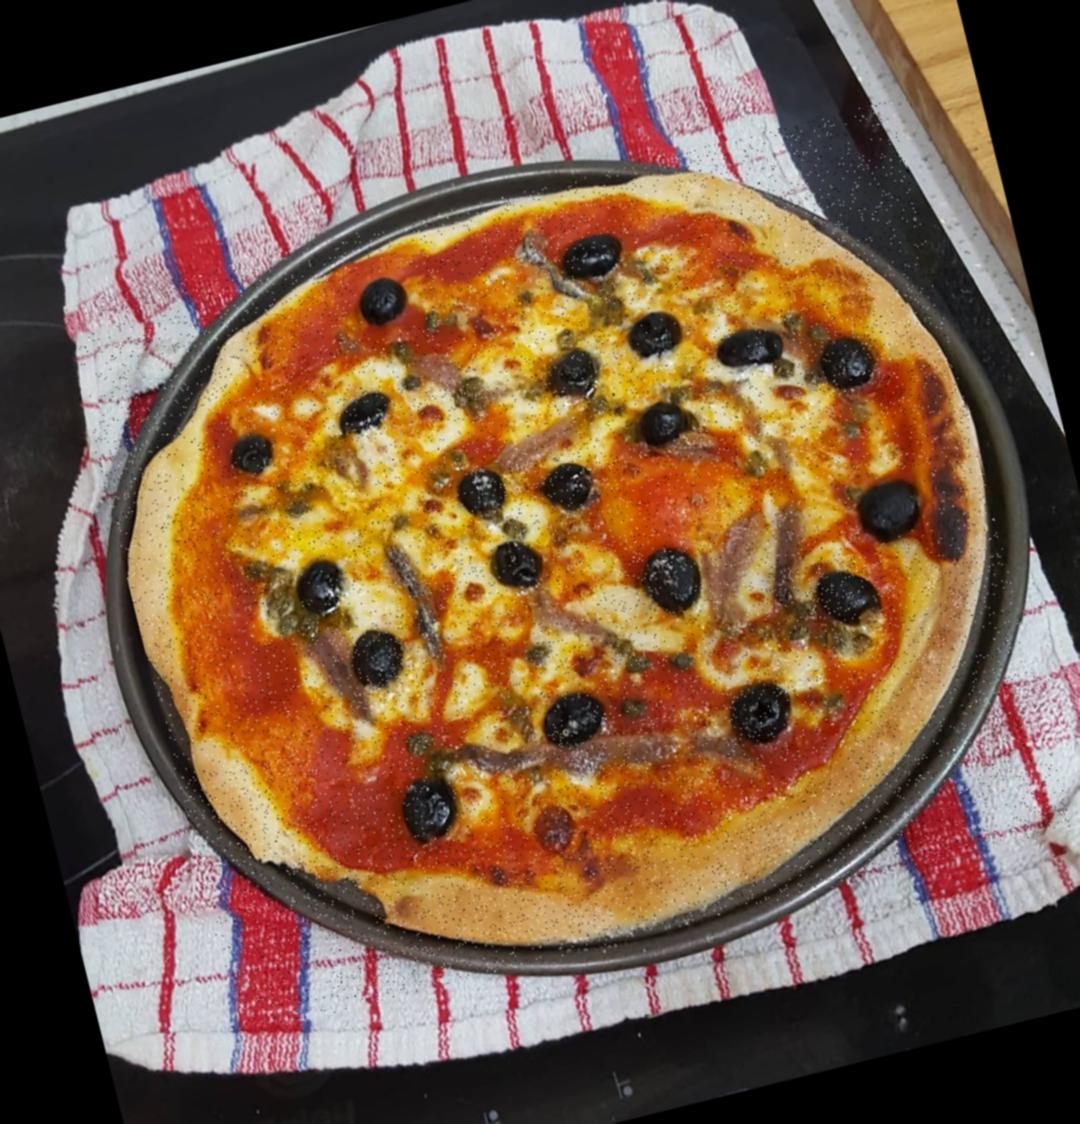Olives: (806, 547, 903, 641), (530, 672, 622, 762), (848, 464, 944, 549), (630, 536, 714, 629), (707, 305, 795, 387), (340, 611, 421, 698), (272, 547, 360, 626), (723, 673, 808, 748), (390, 767, 468, 847), (484, 528, 563, 602), (620, 293, 694, 372), (814, 324, 891, 398), (351, 265, 427, 338), (622, 387, 700, 453), (219, 420, 297, 484), (325, 381, 403, 444), (450, 461, 519, 530), (558, 228, 638, 287), (537, 456, 603, 519), (545, 342, 609, 404)
Pizza: (60, 99, 1073, 1036)
